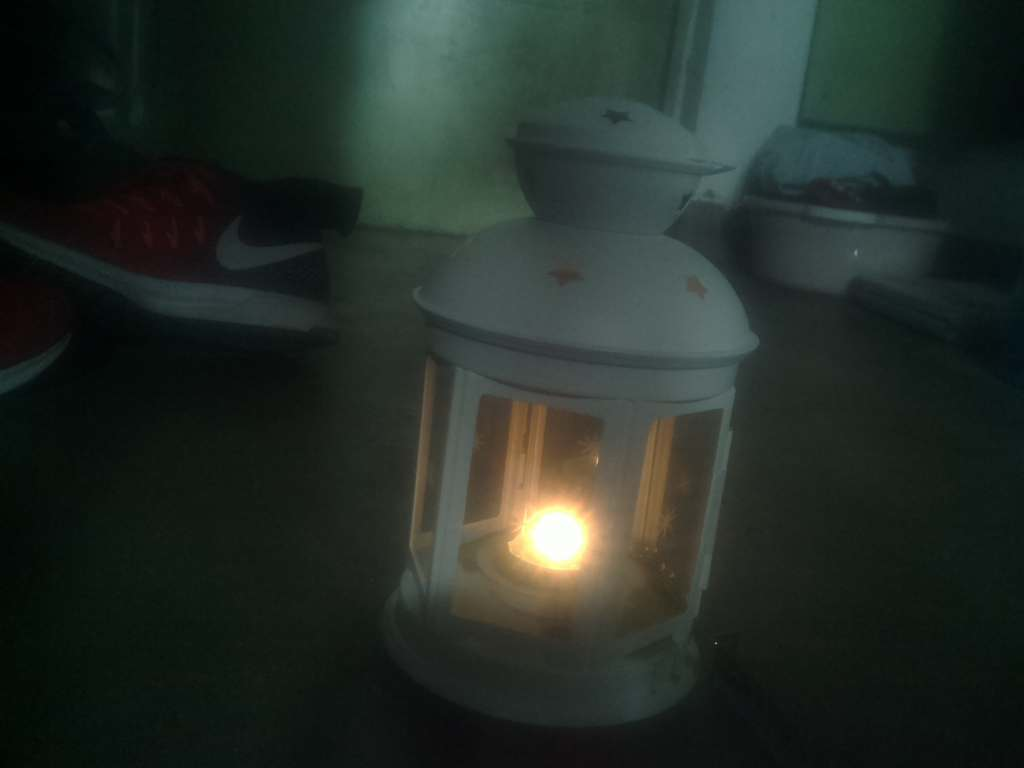fire: (488, 480, 606, 603)
